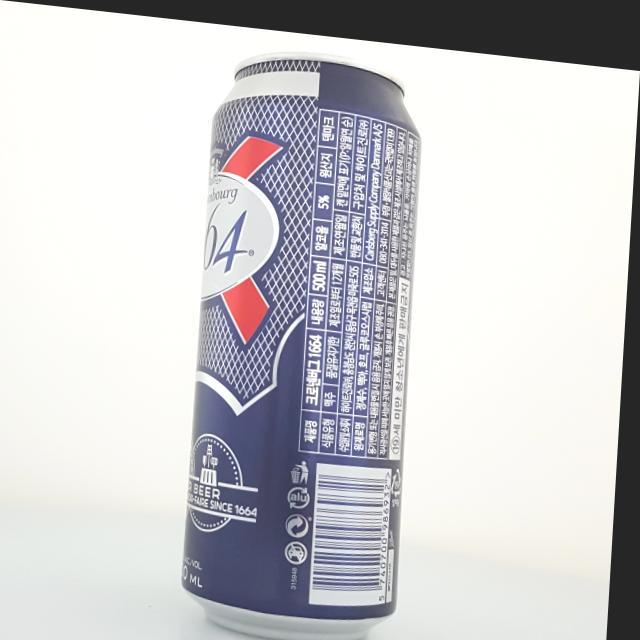beer-can: (186, 36, 429, 640)
